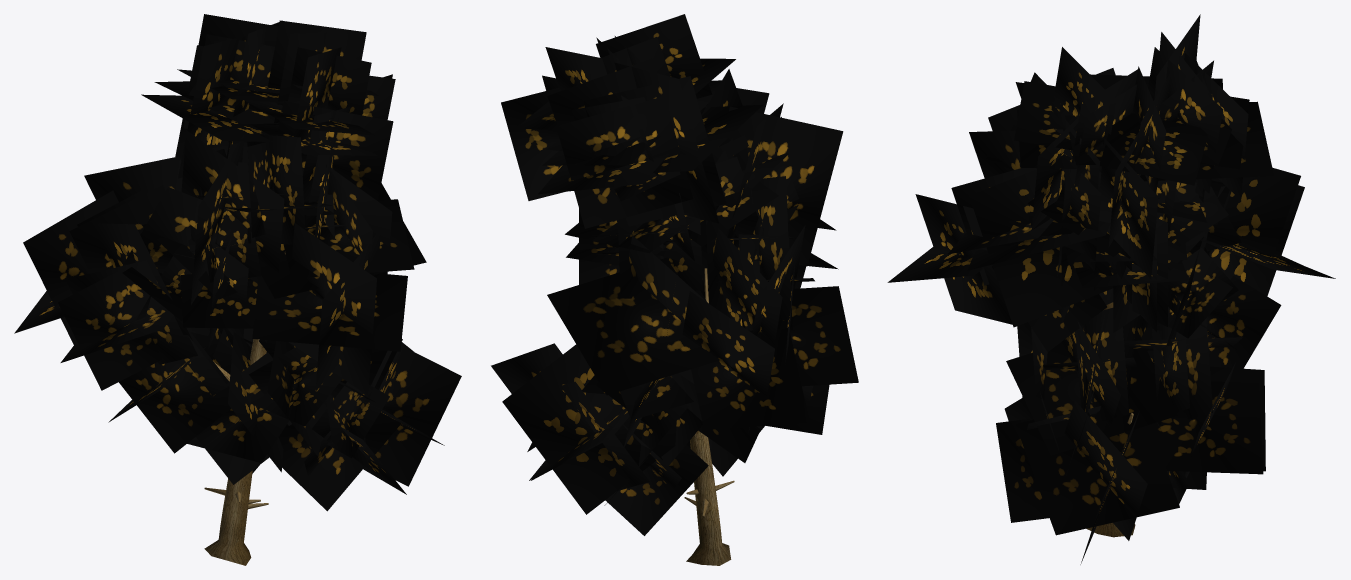
File: env_tree_dry_01.glb
3 views of the same model, side by side, from view 1: azimuth 30°, elevation 25°; view 2: azimuth 150°, elevation 25°; view 3: azimuth 270°, elevation 25° (orthographic).
Visible parts, largest first — view 1: tree_dry_01; view 2: tree_dry_01; view 3: tree_dry_01.
Boxes of the visible parts, x1,y1,x2,y2 form: tree_dry_01: (14, 14, 461, 565); tree_dry_01: (491, 14, 858, 565); tree_dry_01: (887, 14, 1335, 564).
Size of the model in its own units: 4.2 by 5.32 by 4.26.
Materials: 2 (2 with a texture image).
